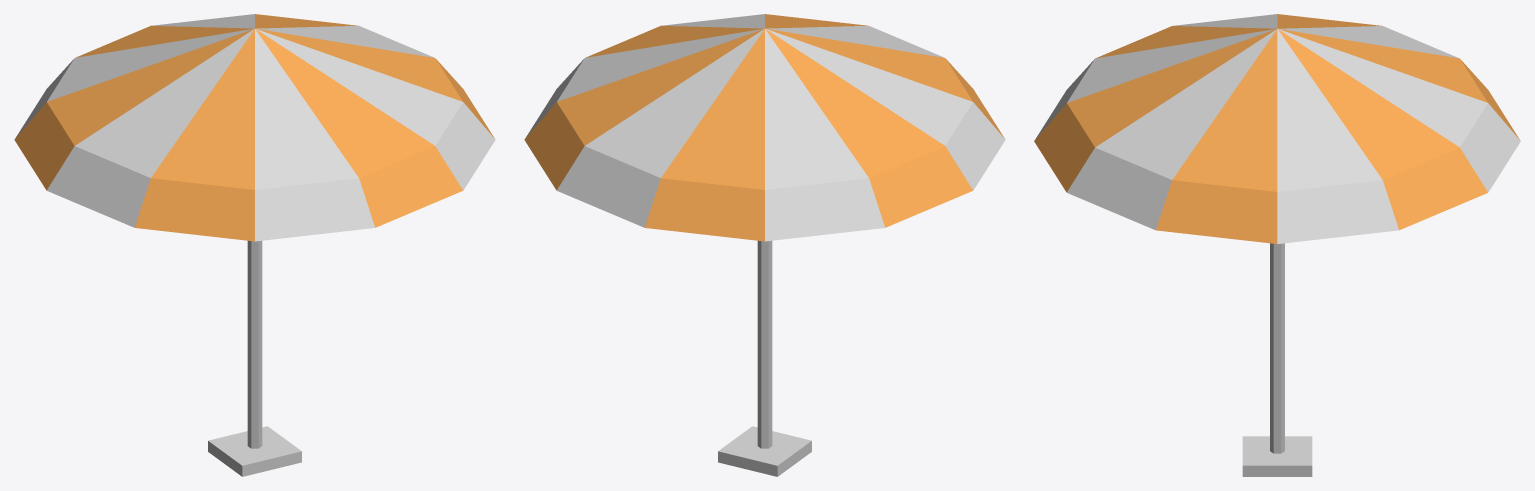
File: zhuangshi_02.FBX
The picture shows the model from 3 angles, left to right: view 1: azimuth 30°, elevation 25°; view 2: azimuth 150°, elevation 25°; view 3: azimuth 270°, elevation 25°; orthographic projection.
Visible parts, largest first — view 1: zhuangshi_02; view 2: zhuangshi_02; view 3: zhuangshi_02.
Boxes of the visible parts, x1,y1,x2,y2 form: zhuangshi_02: (14,14,495,476); zhuangshi_02: (524,14,1005,476); zhuangshi_02: (1034,14,1520,476).
Bounding box in the file's own units: 522 × 513 × 522.
